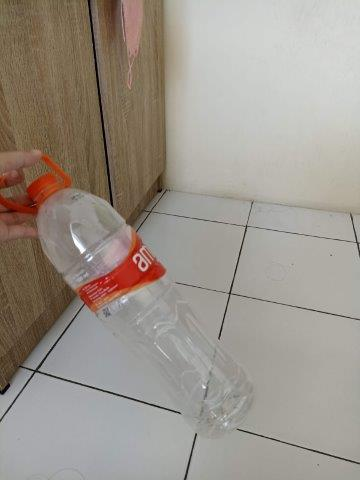botolplastik: (10, 157, 253, 437)
